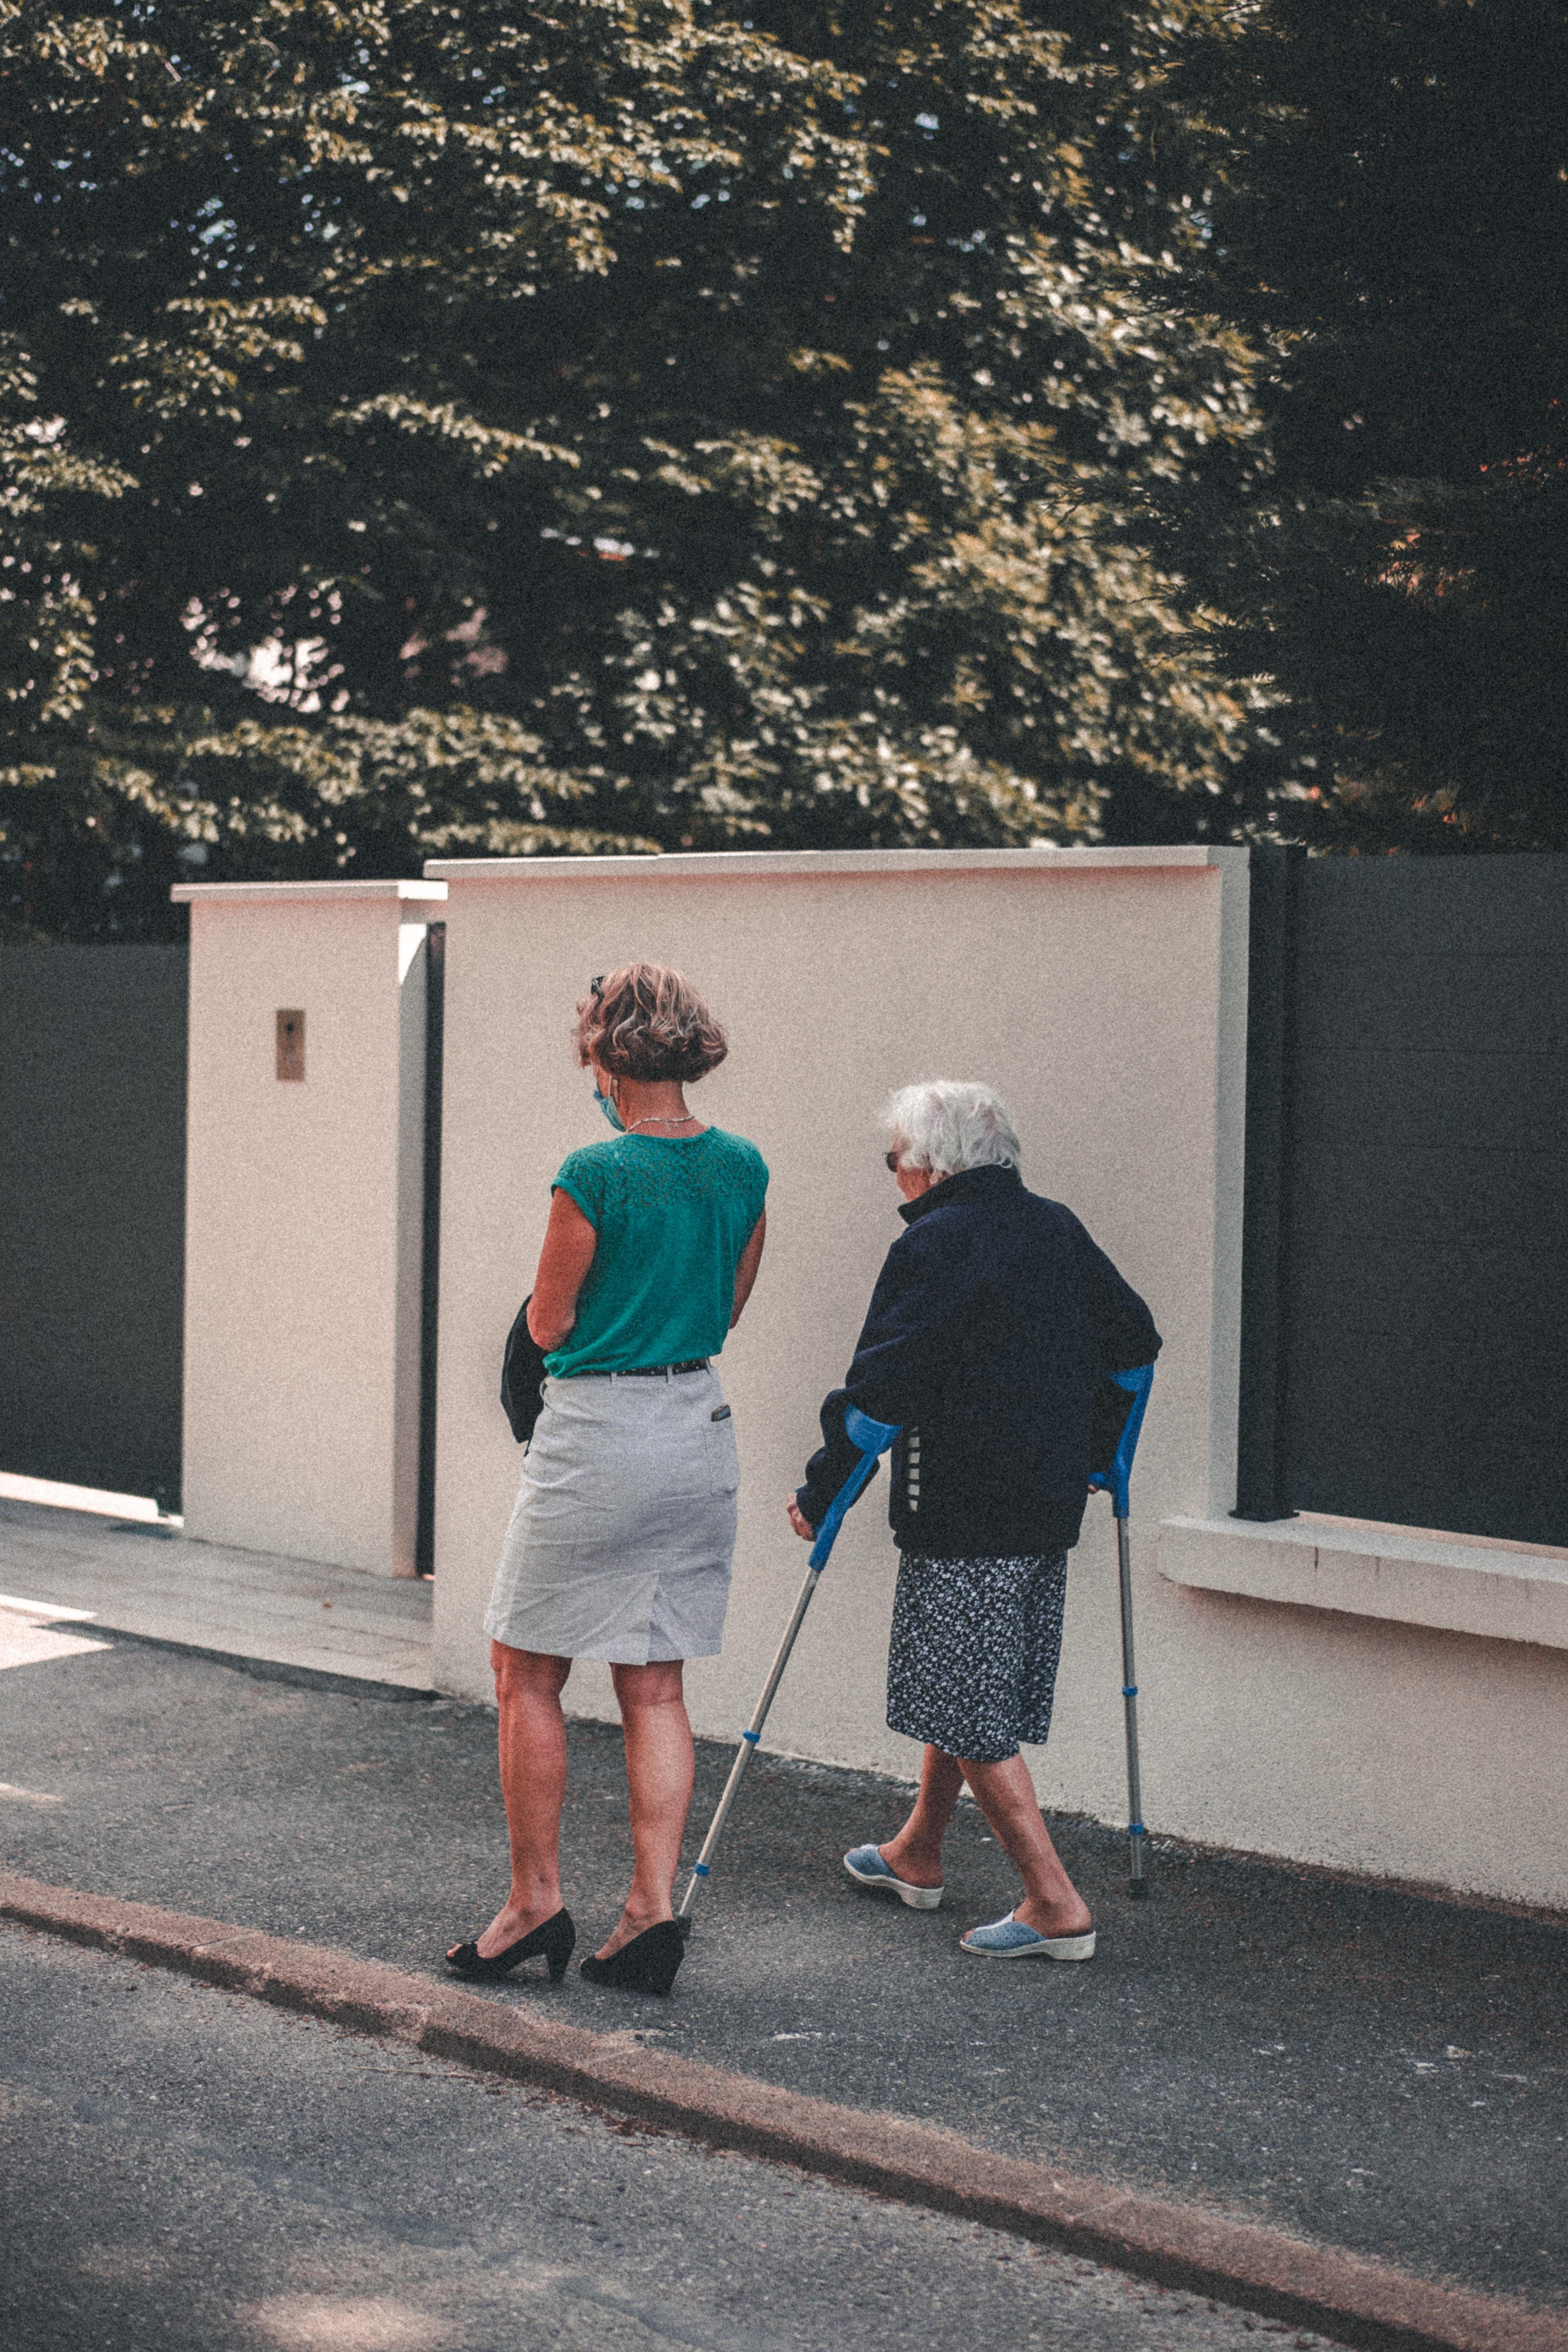crutches: (679, 1080, 1169, 1963)
